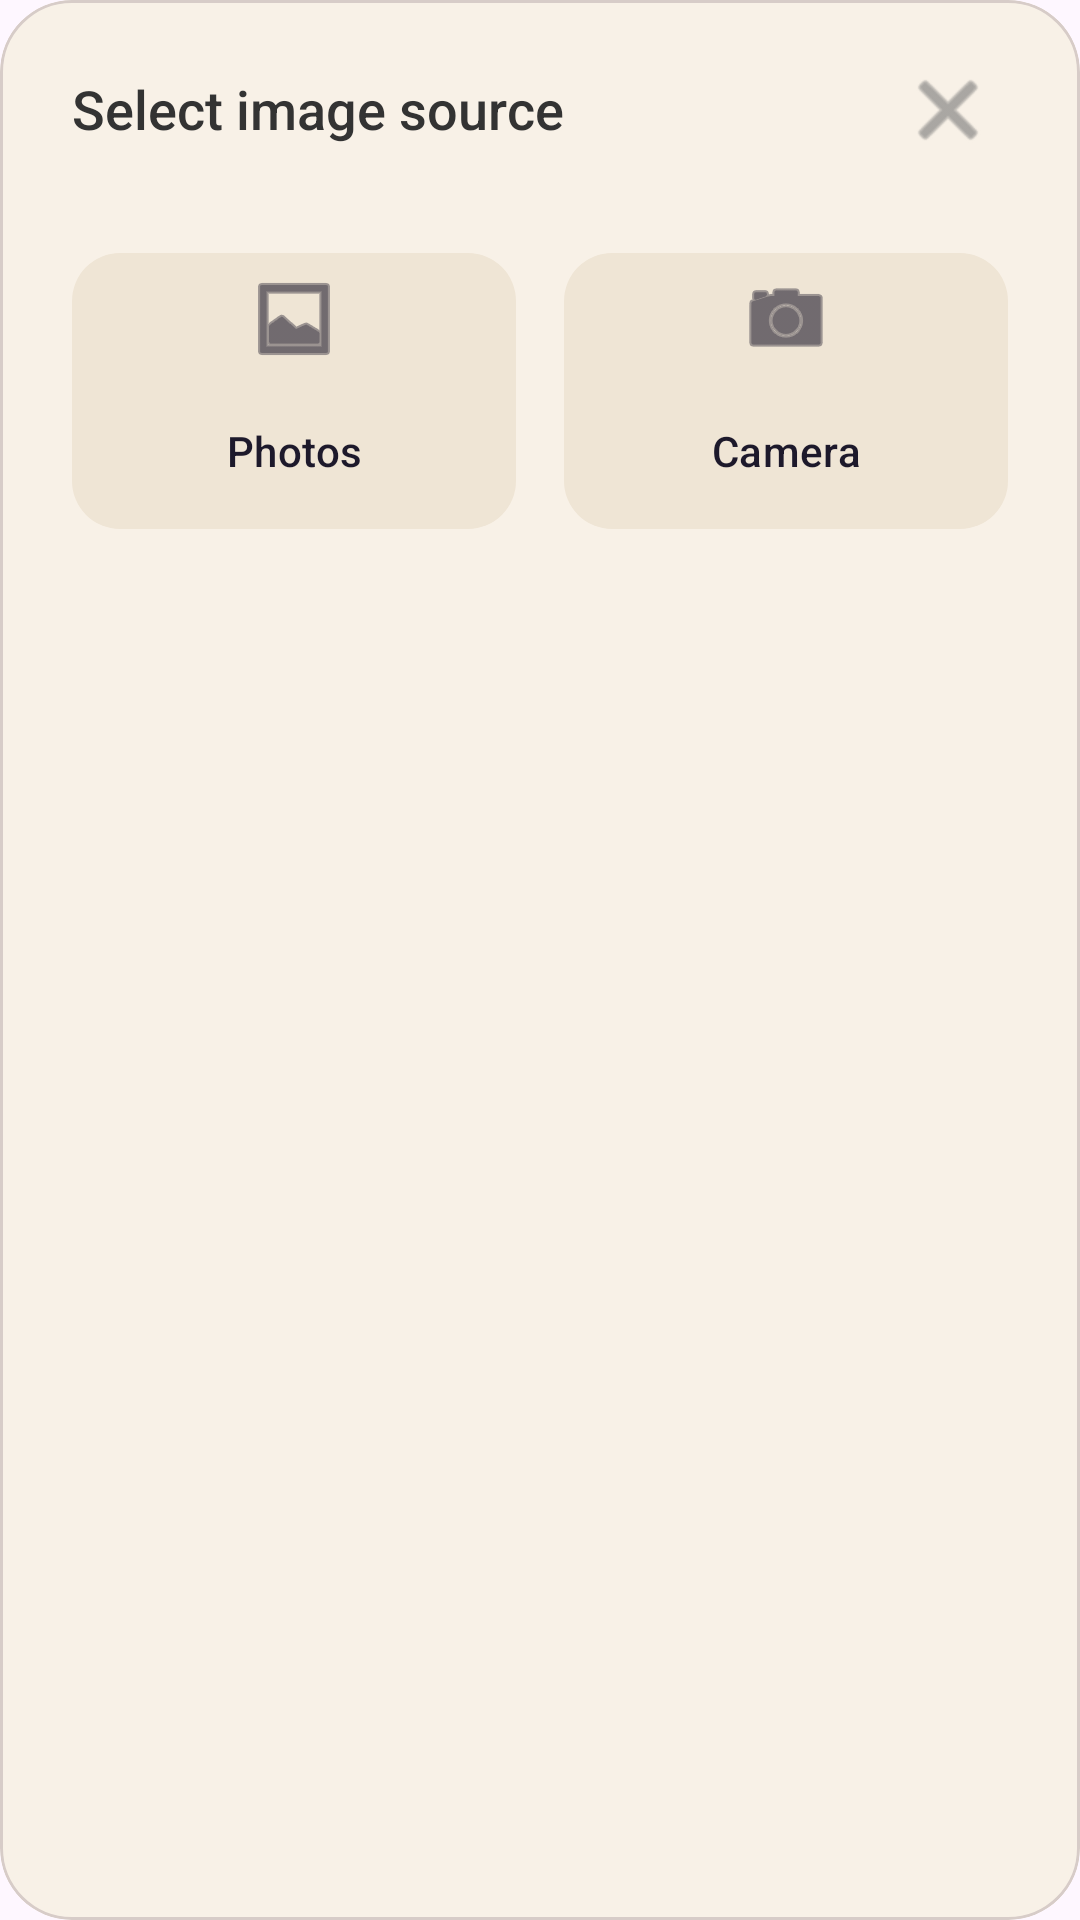

Where to tap for icons on this 1080x1920 app screen, as [x,y]:
Close: [948,110]
